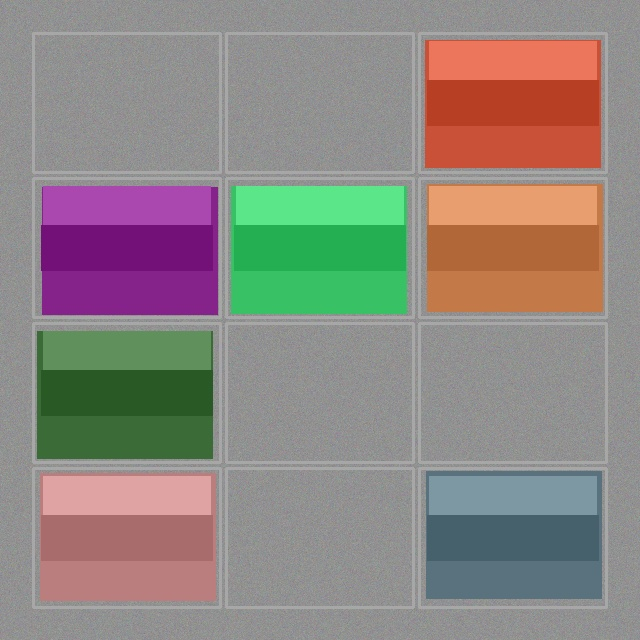space-empty: (35, 35, 218, 170), (228, 35, 411, 170), (228, 325, 411, 460), (421, 325, 604, 460), (228, 470, 411, 605)
space-occupied: (421, 35, 604, 170), (35, 180, 218, 315), (228, 180, 411, 315), (421, 180, 604, 315), (35, 325, 218, 460), (35, 470, 218, 605), (421, 470, 604, 605)
